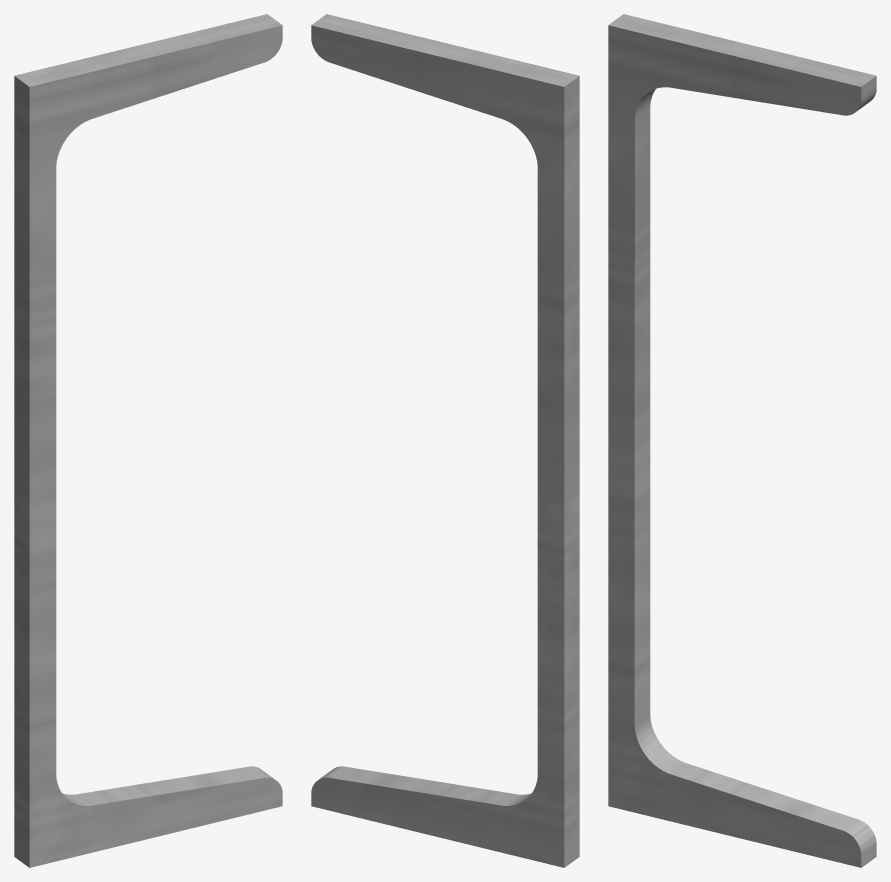
Rendered from UPN280.glb.
The picture shows the model from 3 angles, left to right: view 1: azimuth 30°, elevation 25°; view 2: azimuth 150°, elevation 25°; view 3: azimuth 330°, elevation 25°; orthographic projection.
Size of the model in its own units: 9.5 by 28 by 1.
Materials: 1 (1 with a texture image).
